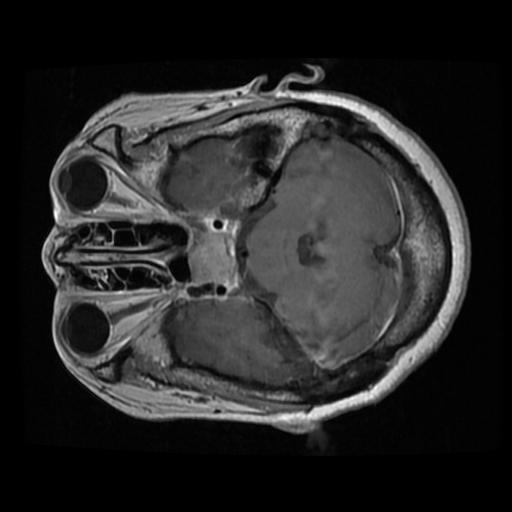pituitary tumour: (186, 231, 238, 286)
